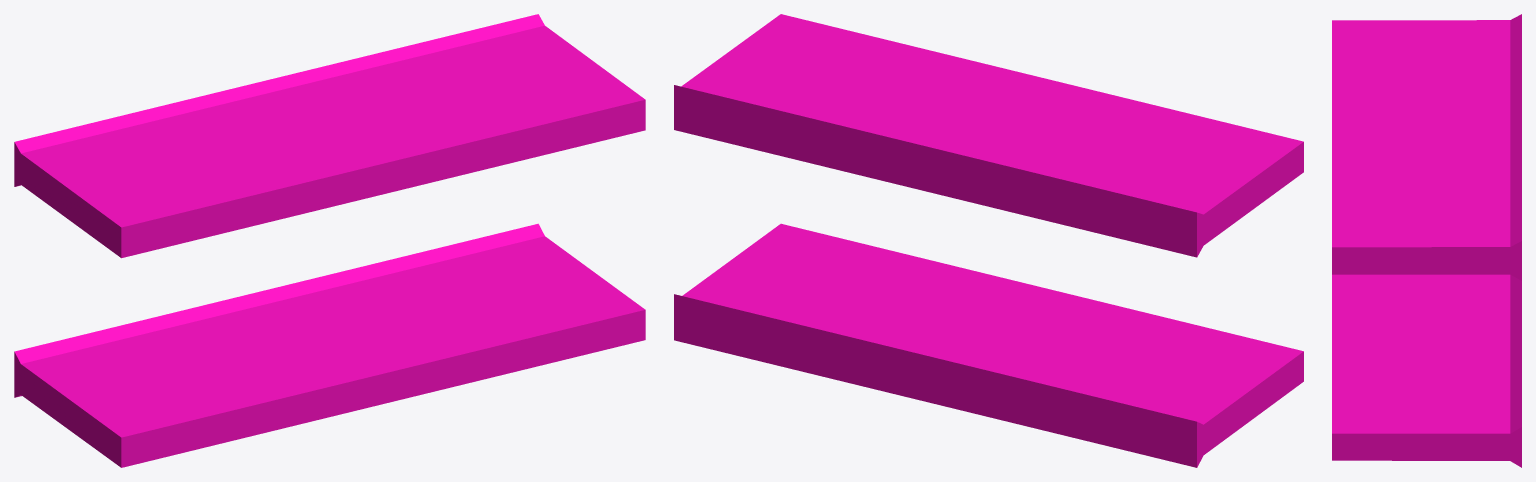
The model's file is study_shelf_2_meshCollider.fbx.
3 views of the same model, side by side, from view 1: azimuth 30°, elevation 25°; view 2: azimuth 150°, elevation 25°; view 3: azimuth 270°, elevation 25° (orthographic). The views are drawn at different scales.
Parts seen in each view (by area): view 1: study_shelf_2_meshCollider; view 2: study_shelf_2_meshCollider; view 3: study_shelf_2_meshCollider.
Boxes of the visible parts, left/top/right/bottom form: study_shelf_2_meshCollider: left=14, top=14, right=645, bottom=467; study_shelf_2_meshCollider: left=674, top=14, right=1303, bottom=467; study_shelf_2_meshCollider: left=1332, top=14, right=1521, bottom=467.
Size of the model in its own units: 89.76 by 41.9 by 31.75.
